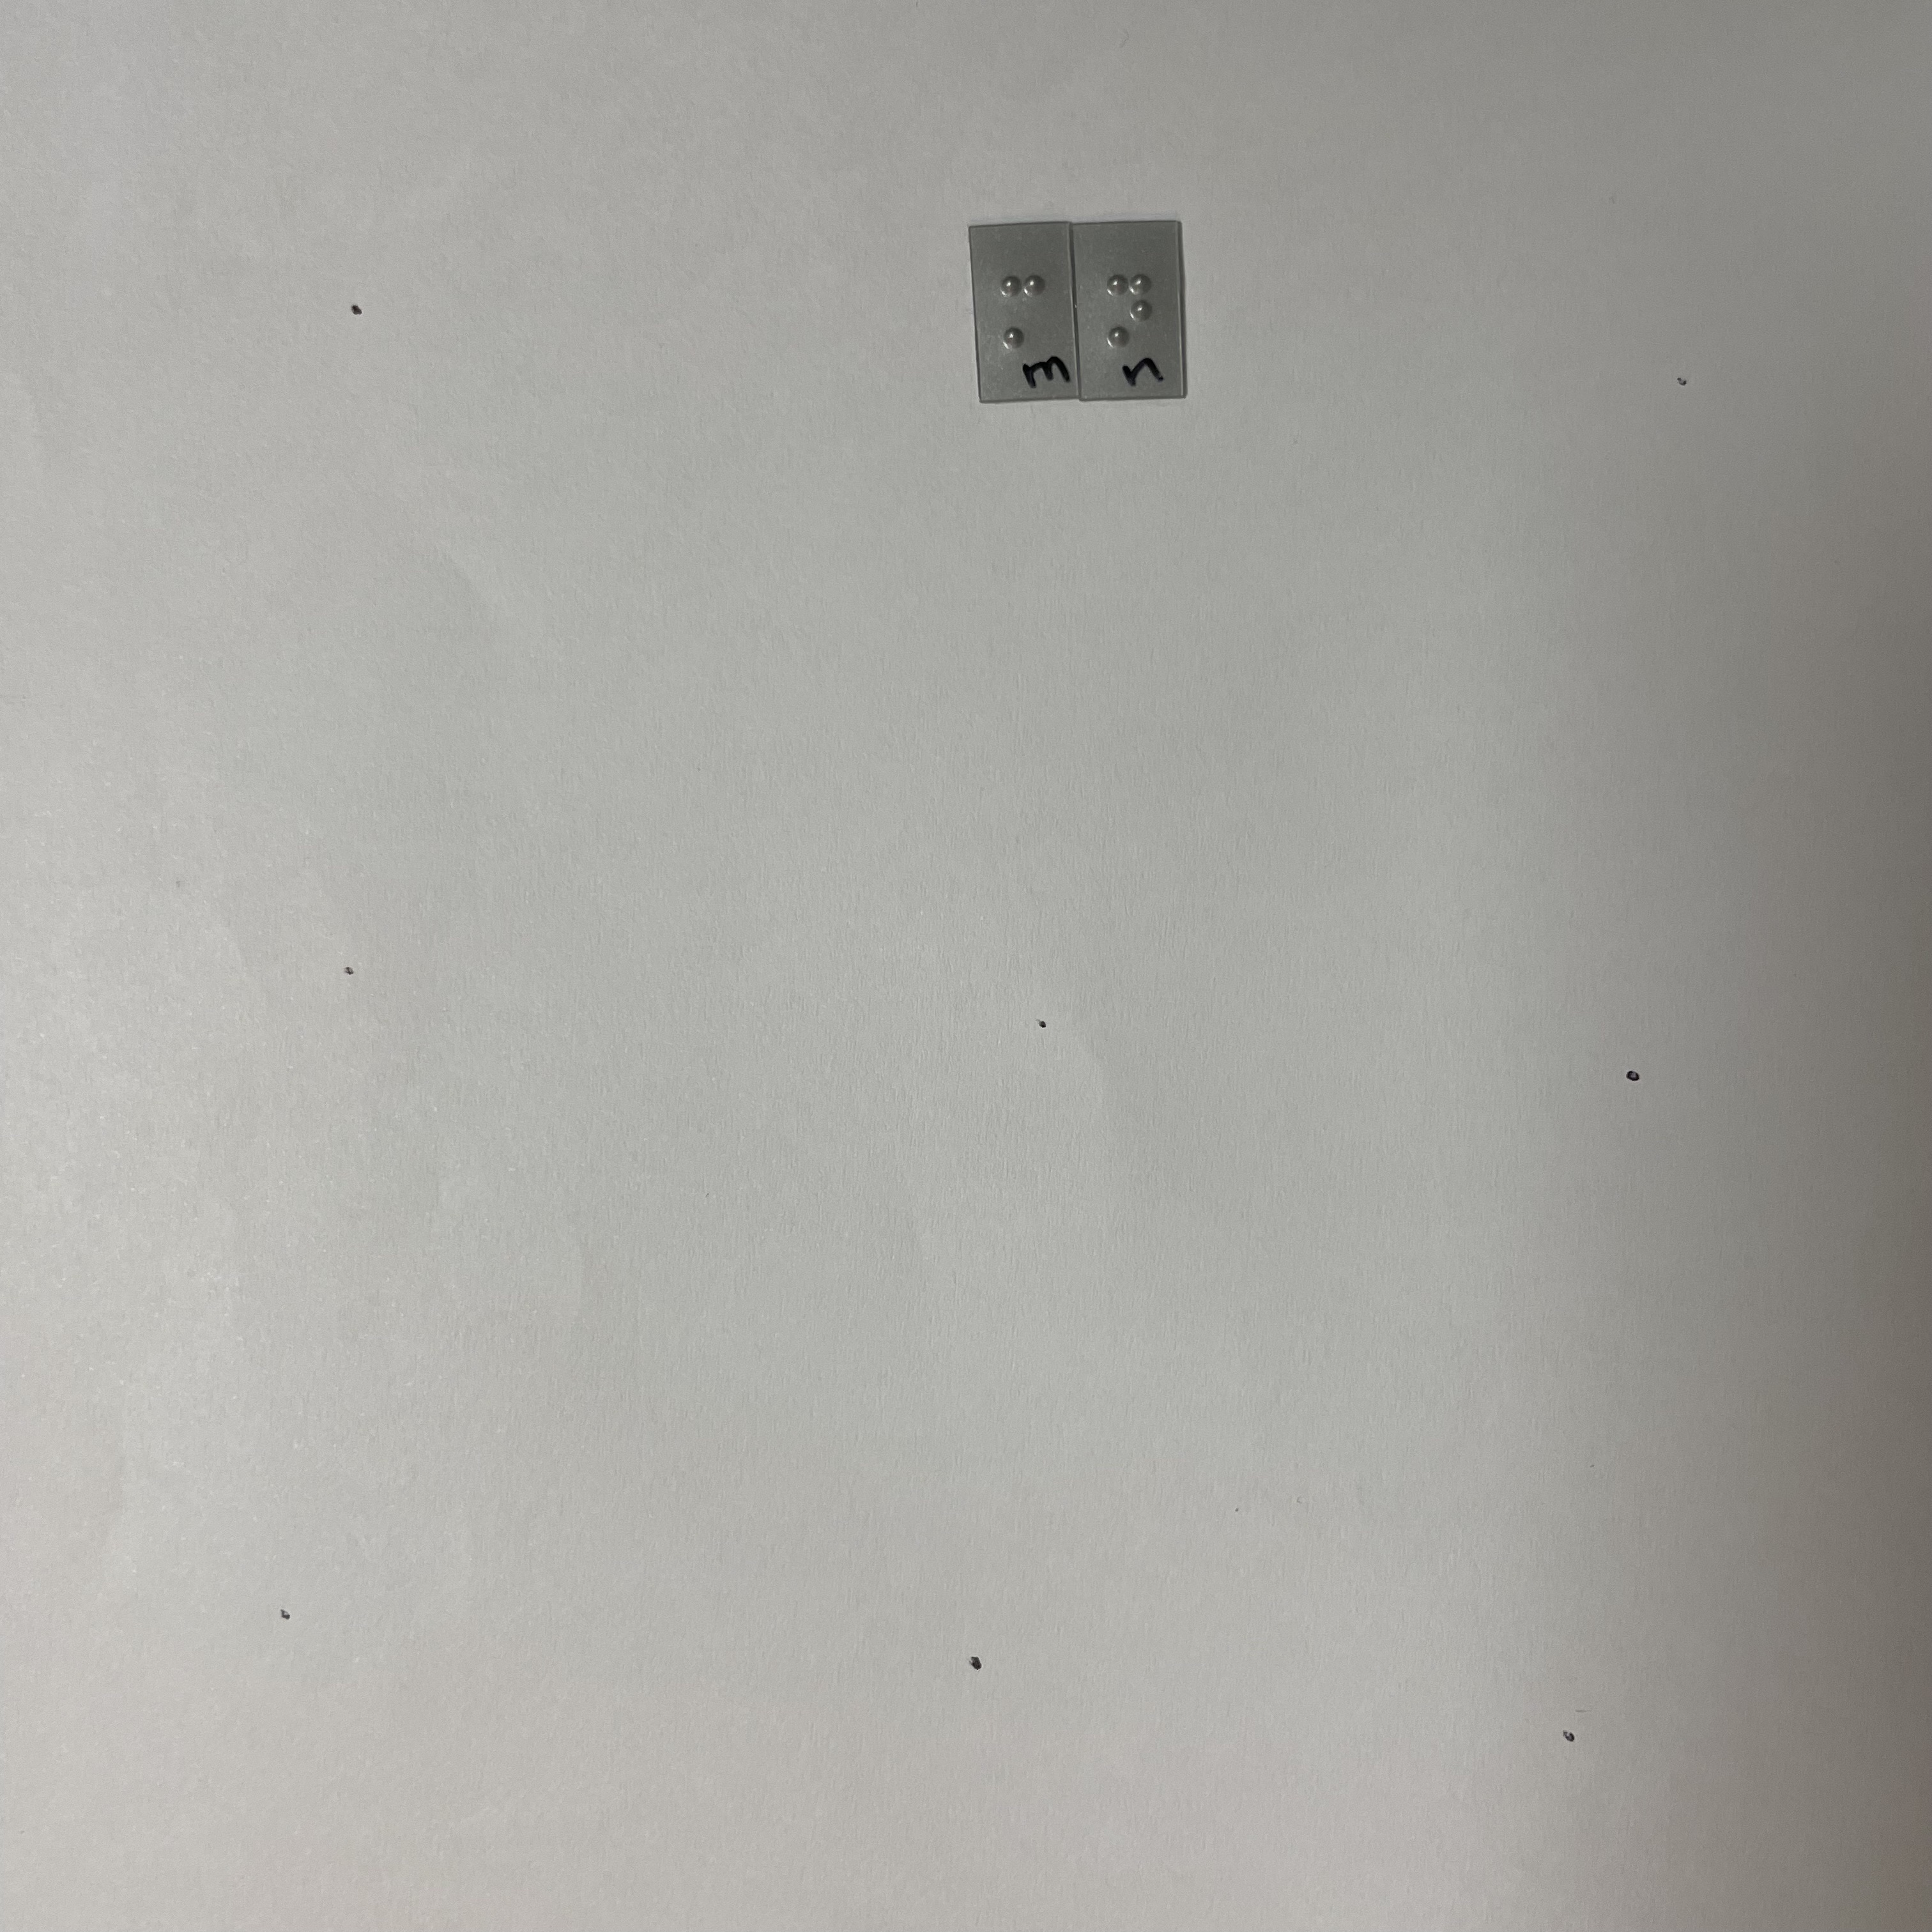m: (992, 265, 1058, 362)
n: (1093, 263, 1162, 362)
